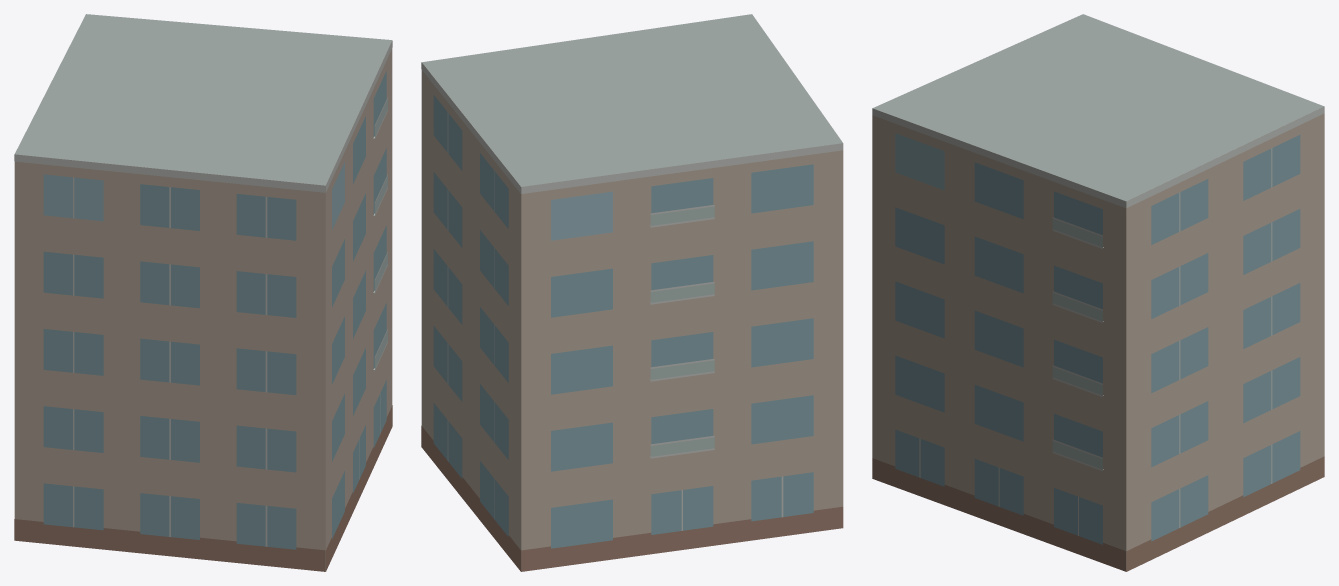
Rendered from survey-upis-32899185.glb.
3 renders of one model, left to right at view 1: azimuth 30°, elevation 25°; view 2: azimuth 150°, elevation 25°; view 3: azimuth 270°, elevation 25°, orthographic. The views are drawn at different scales.
Parts seen in each view (by area): view 1: survey-upis-32899185.tmp; view 2: survey-upis-32899185.tmp; view 3: survey-upis-32899185.tmp.
Boxes of the visible parts, left/top/right/bottom form: survey-upis-32899185.tmp: left=14, top=14, right=392, bottom=571; survey-upis-32899185.tmp: left=421, top=14, right=843, bottom=571; survey-upis-32899185.tmp: left=872, top=14, right=1324, bottom=571.
Bounding box in the file's own units: 14.34 × 13.2 × 14.61.
